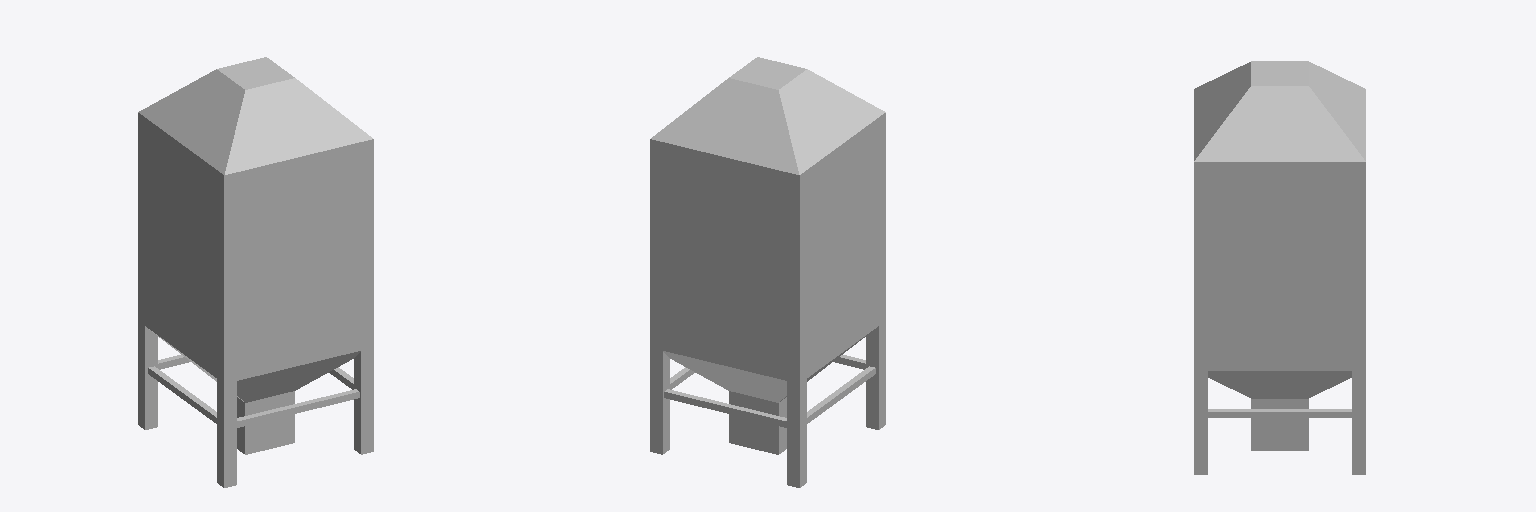
The model's file is silo.obj.
3 views of the same model, side by side, from view 1: azimuth 30°, elevation 25°; view 2: azimuth 150°, elevation 25°; view 3: azimuth 270°, elevation 25° (orthographic).
Visible parts, largest first — view 1: cube; view 2: cube; view 3: cube.
Part boxes in pixels (bbox=[...]): cube: bbox=[138, 57, 373, 487]; cube: bbox=[650, 57, 885, 487]; cube: bbox=[1194, 61, 1365, 474].
Bounding box in the file's own units: 3 × 7 × 3.